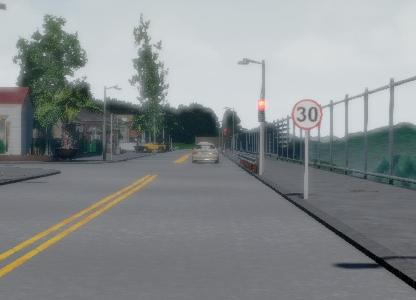Speed_30: (289, 98, 323, 131)
